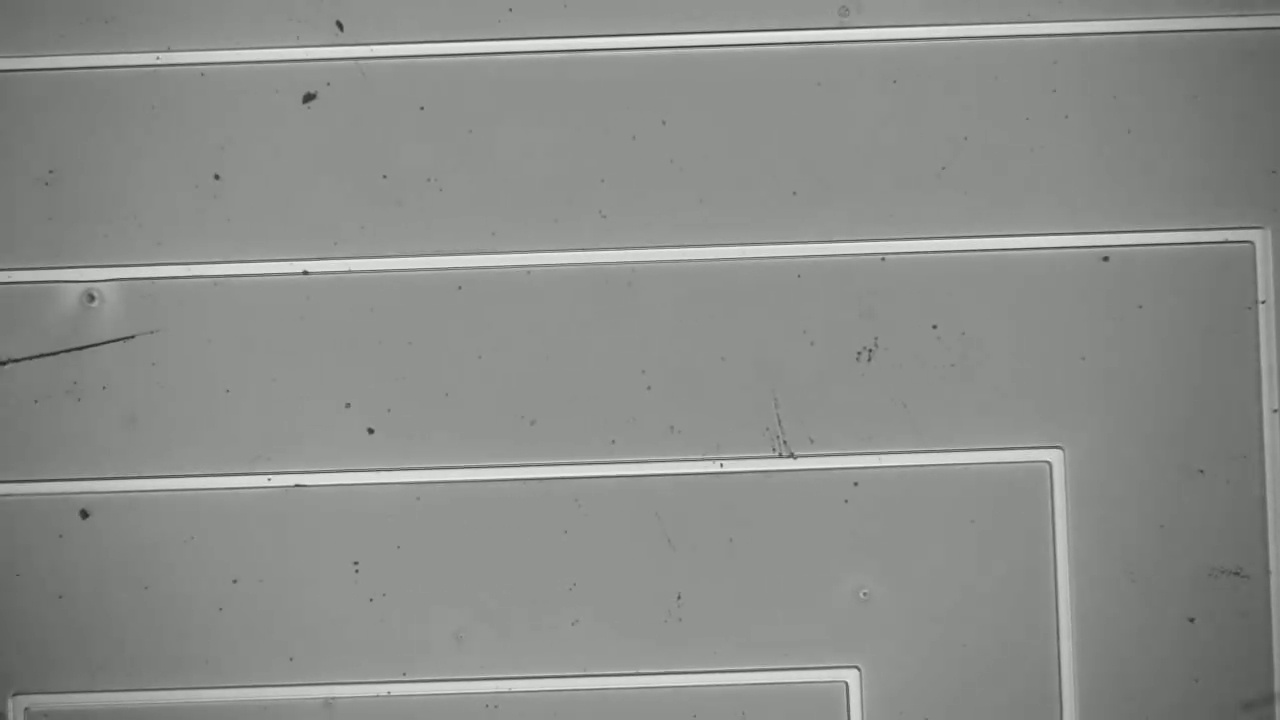scratch: (0, 320, 175, 380)
